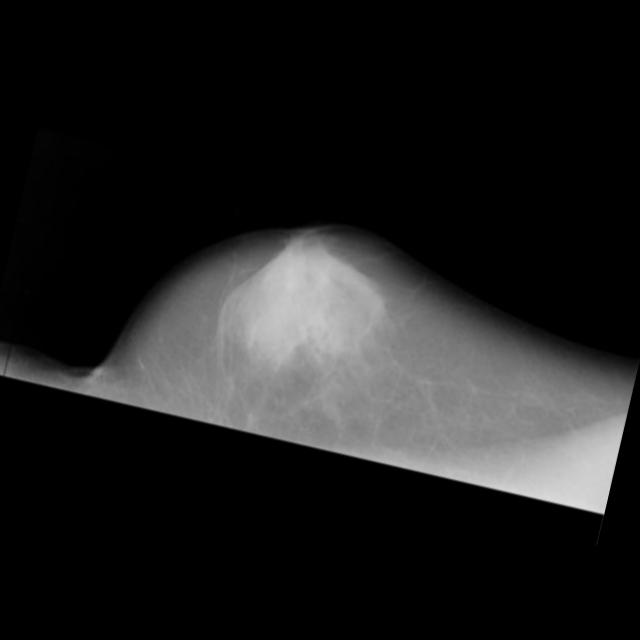ARCH: (272, 301, 334, 364)
